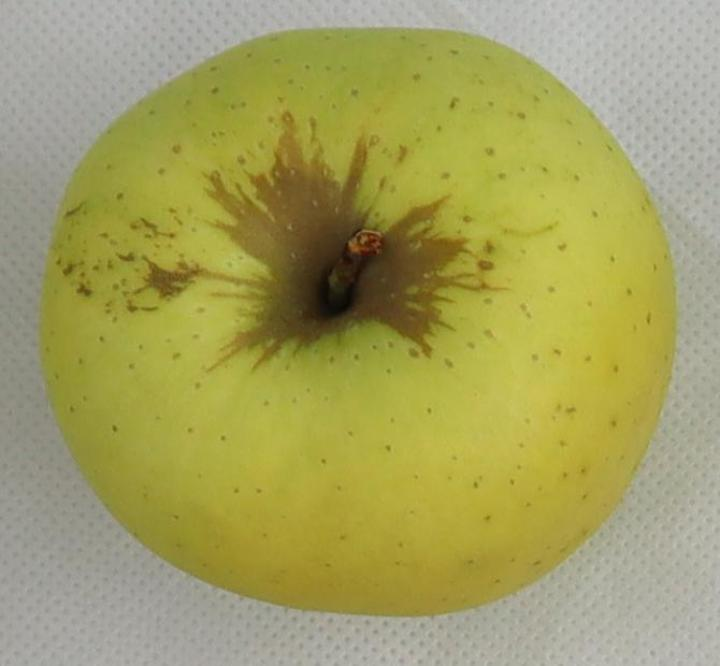apple: (41, 29, 675, 614)
bruise_discoloration: (118, 111, 496, 371)
